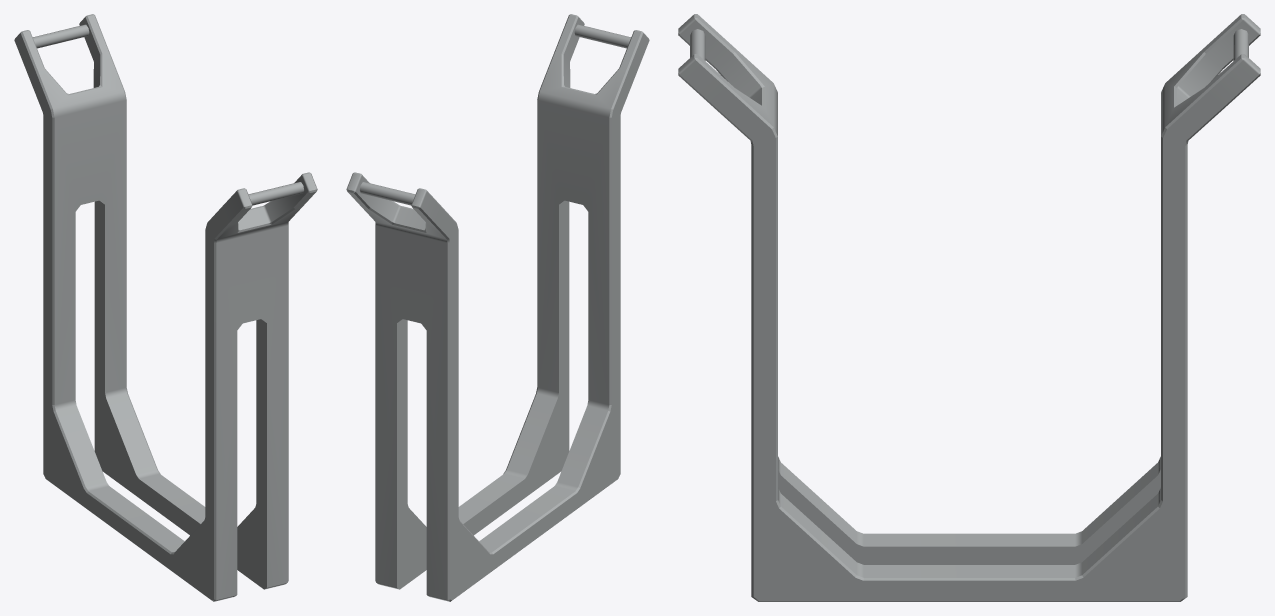
The model's file is Crate_001.fbx.
3 views of the same model, side by side, from view 1: azimuth 30°, elevation 25°; view 2: azimuth 150°, elevation 25°; view 3: azimuth 270°, elevation 25° (orthographic). The views are drawn at different scales.
Parts seen in each view (by area): view 1: Crate_001; view 2: Crate_001; view 3: Crate_001.
Boxes of the visible parts, bbox=[...] form: Crate_001: bbox=[14, 14, 317, 601]; Crate_001: bbox=[346, 14, 649, 601]; Crate_001: bbox=[678, 14, 1260, 601].
Size of the model in its own units: 13.78 by 73.84 by 76.09.
